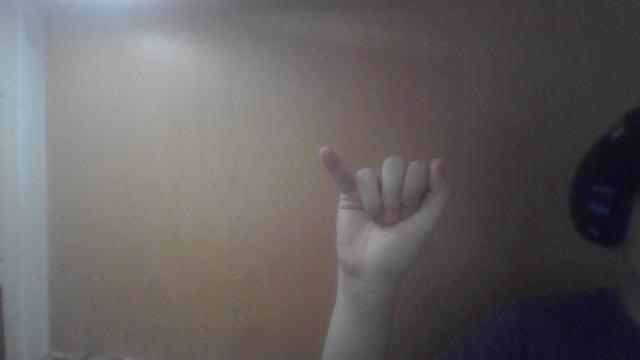Right: (307, 136, 455, 278)
